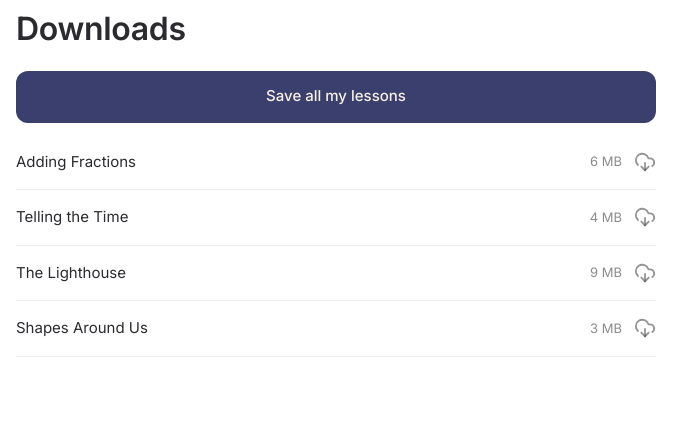
it: the finished bulk button › stays pressable once everything is saved, and says so in place
Click the button "Save all my lessons": (336, 97) [16,71,656,123]
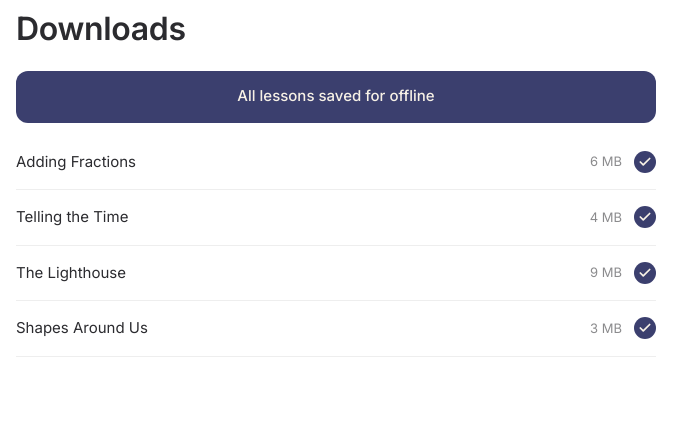
Check: the text "Everything's already saved." is not shown
Click the button "All lessons saved for offline": (336, 97) [16,71,656,123]
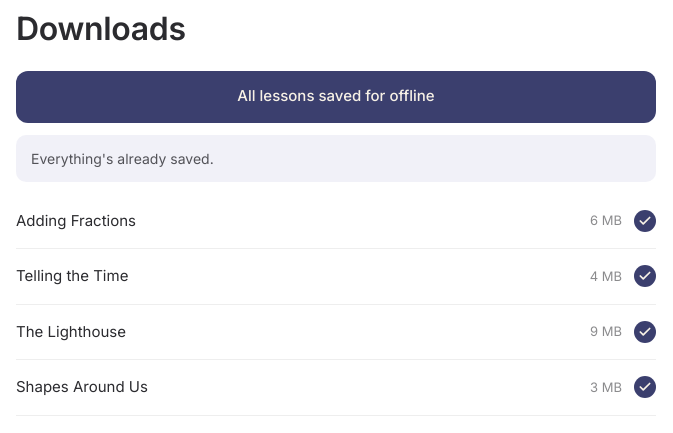
Check: the message reads "Everything's already saved.", box [31,150,214,167]
